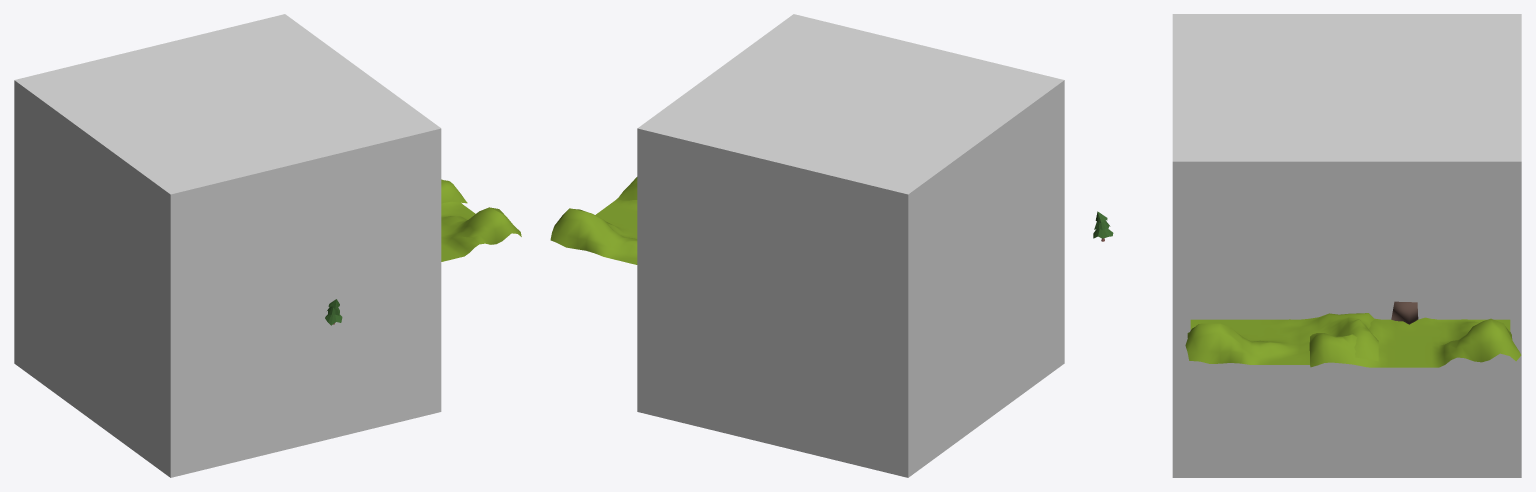
The model's file is yuki2.gltf.
3 views of the same model, side by side, from view 1: azimuth 30°, elevation 25°; view 2: azimuth 150°, elevation 25°; view 3: azimuth 270°, elevation 25° (orthographic). The views are drawn at different scales.
Parts seen in each view (by area): view 1: Cube.018, terrain.002; view 2: Cube.018, terrain.001; view 3: Cube.018, terrain.001, terrain.002, Cube.
Part boxes in pixels (x1=…): Cube.018: x1=14, y1=14, x2=441, y2=477; terrain.002: x1=441, y1=201, x2=521, y2=261; Cube.018: x1=637, y1=14, x2=1064, y2=477; terrain.001: x1=550, y1=177, x2=637, y2=264; Cube.018: x1=1172, y1=14, x2=1521, y2=477; terrain.001: x1=1309, y1=317, x2=1521, y2=367; terrain.002: x1=1185, y1=313, x2=1378, y2=364; Cube: x1=1391, y1=301, x2=1418, y2=324.
Bounding box in the file's own units: 134 × 99.66 × 122.
